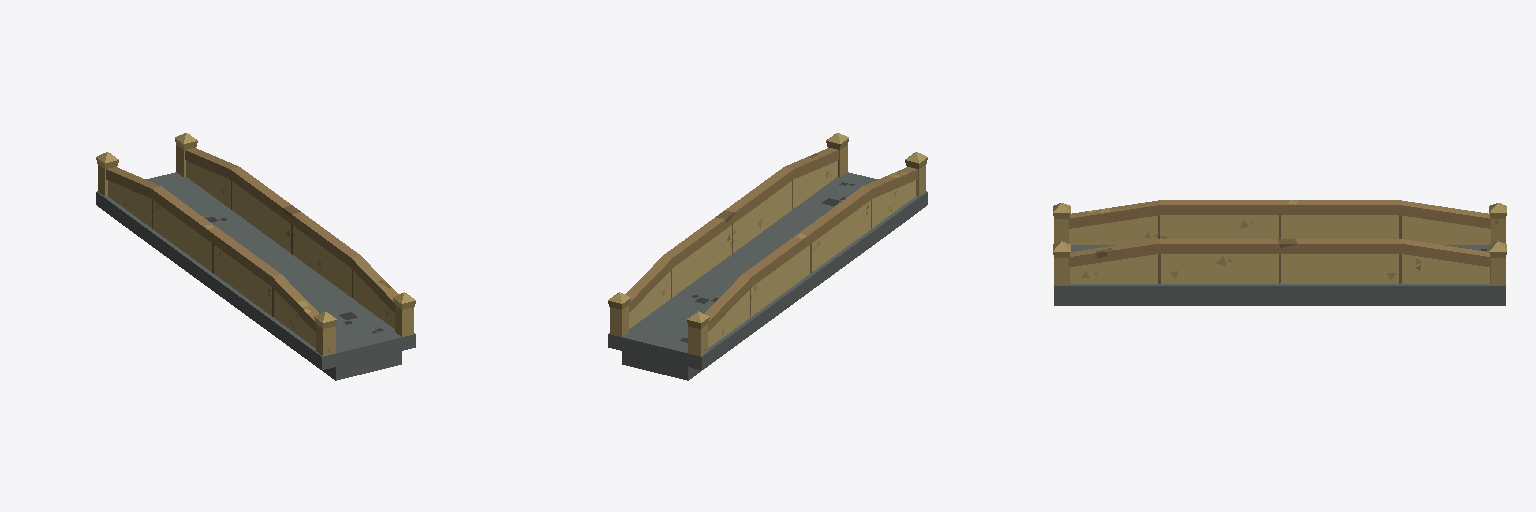
3 views of the same model, side by side, from view 1: azimuth 30°, elevation 25°; view 2: azimuth 150°, elevation 25°; view 3: azimuth 270°, elevation 25° (orthographic).
Visible parts, largest first — view 1: Cube.001; view 2: Cube.001; view 3: Cube.001.
Boxes of the visible parts, box(x1,y1,x2,y2) form: Cube.001: box(96, 133, 415, 380); Cube.001: box(608, 133, 927, 380); Cube.001: box(1053, 200, 1506, 305).
Bounding box in the file's own units: 14.4 × 10 × 60.4.
1 materials, 1 textured.